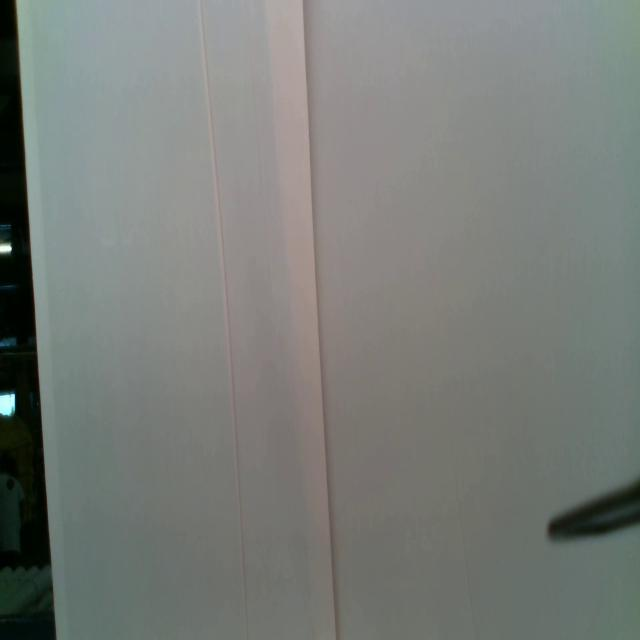crease: (265, 0, 339, 638), (200, 0, 248, 640), (452, 461, 476, 634)
